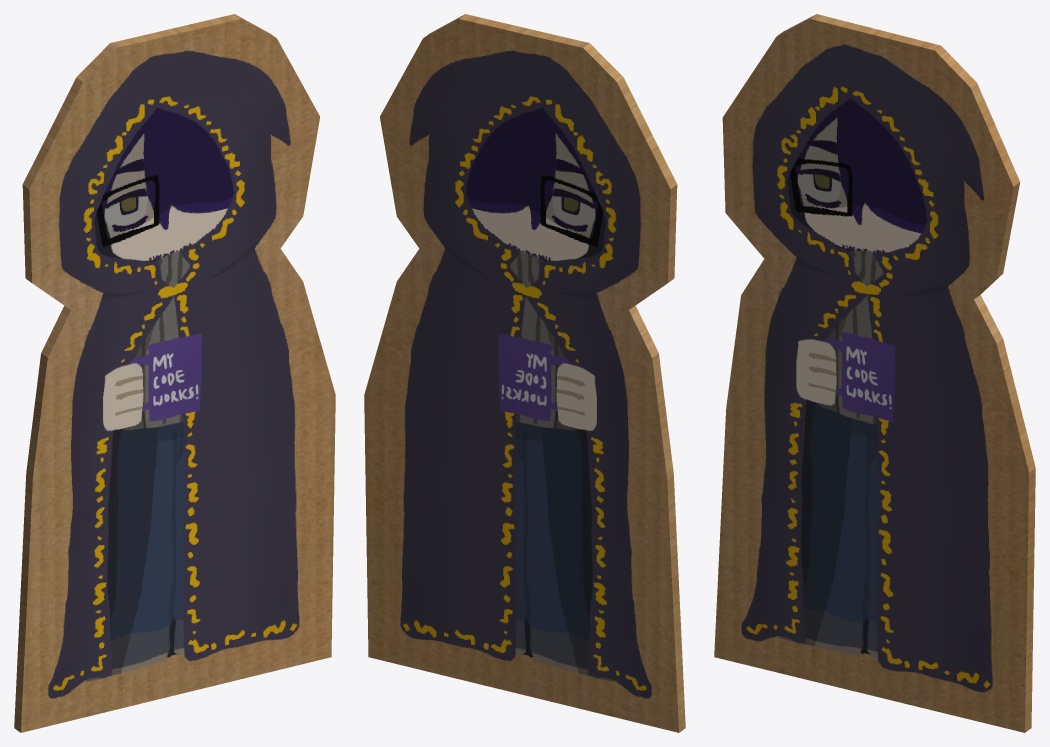
The model's file is NPC_Base_1_RuneProgrammer.glb.
The picture shows the model from 3 angles, left to right: view 1: azimuth 30°, elevation 25°; view 2: azimuth 150°, elevation 25°; view 3: azimuth 330°, elevation 25°; orthographic projection.
Visible parts, largest first — view 1: NPC_Base1_RuneProgrammer; view 2: NPC_Base1_RuneProgrammer; view 3: NPC_Base1_RuneProgrammer.
Boxes of the visible parts, x1=… form: NPC_Base1_RuneProgrammer: x1=14, y1=14, x2=335, y2=732; NPC_Base1_RuneProgrammer: x1=364, y1=14, x2=685, y2=732; NPC_Base1_RuneProgrammer: x1=714, y1=14, x2=1035, y2=732.
Bounding box in the file's own units: 0.8198 × 1.65 × 0.03.
Materials: 1 (1 with a texture image).
